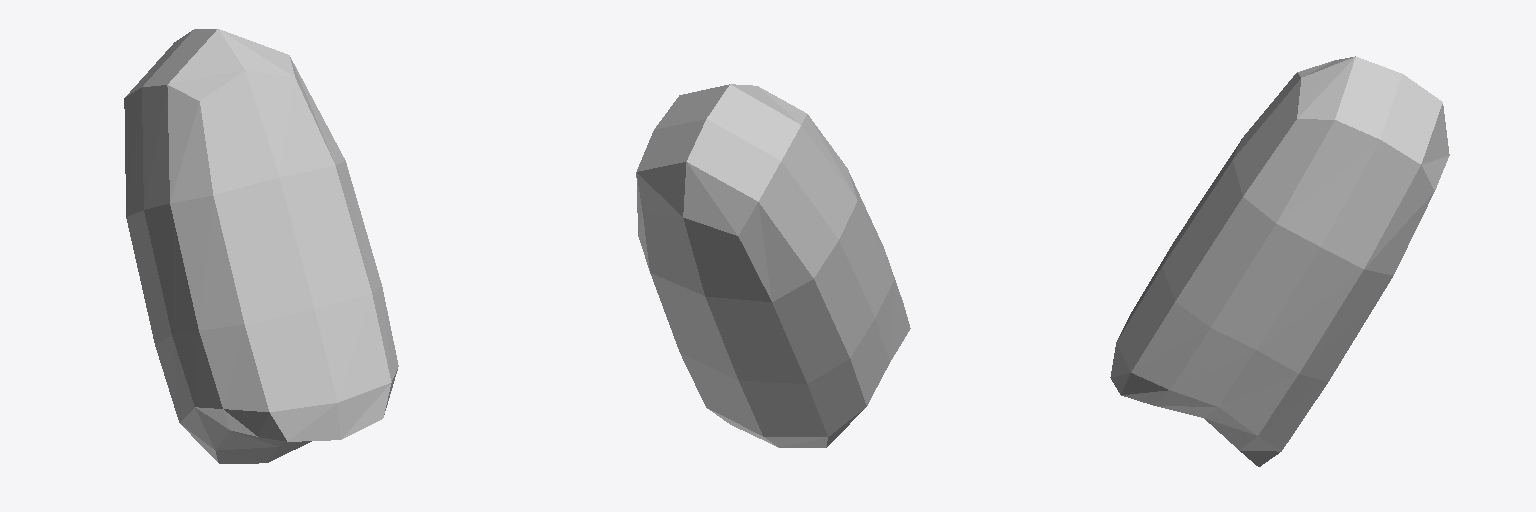
File: pigleg.obj
The picture shows the model from 3 angles: view 1: azimuth 30°, elevation 25°; view 2: azimuth 150°, elevation 25°; view 3: azimuth 270°, elevation 25°; orthographic projection.
Visible parts, largest first — view 1: Cube.003; view 2: Cube.003; view 3: Cube.003.
Boxes of the visible parts, x1=… form: Cube.003: x1=124, y1=29, x2=398, y2=463; Cube.003: x1=636, y1=84, x2=910, y2=447; Cube.003: x1=1110, y1=56, x2=1449, y2=466.
Size of the model in its own units: 0.3511 by 0.7 by 0.5395.